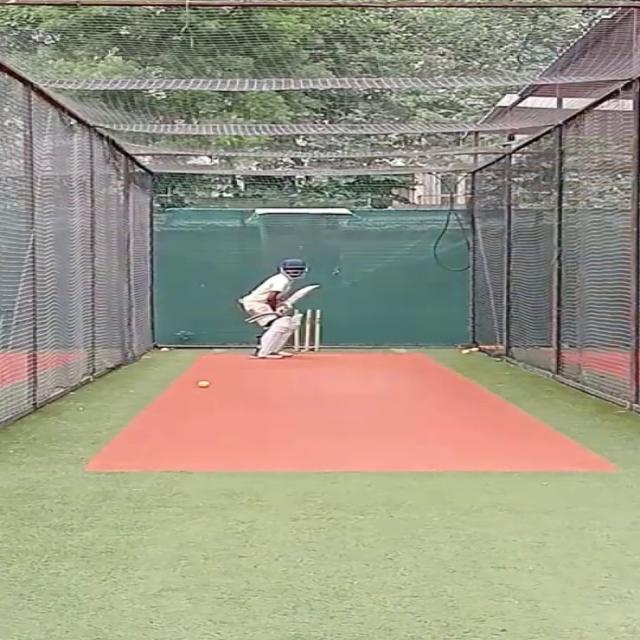ball: (196, 378, 216, 391), (158, 344, 173, 352)
stump: (294, 308, 325, 353)
